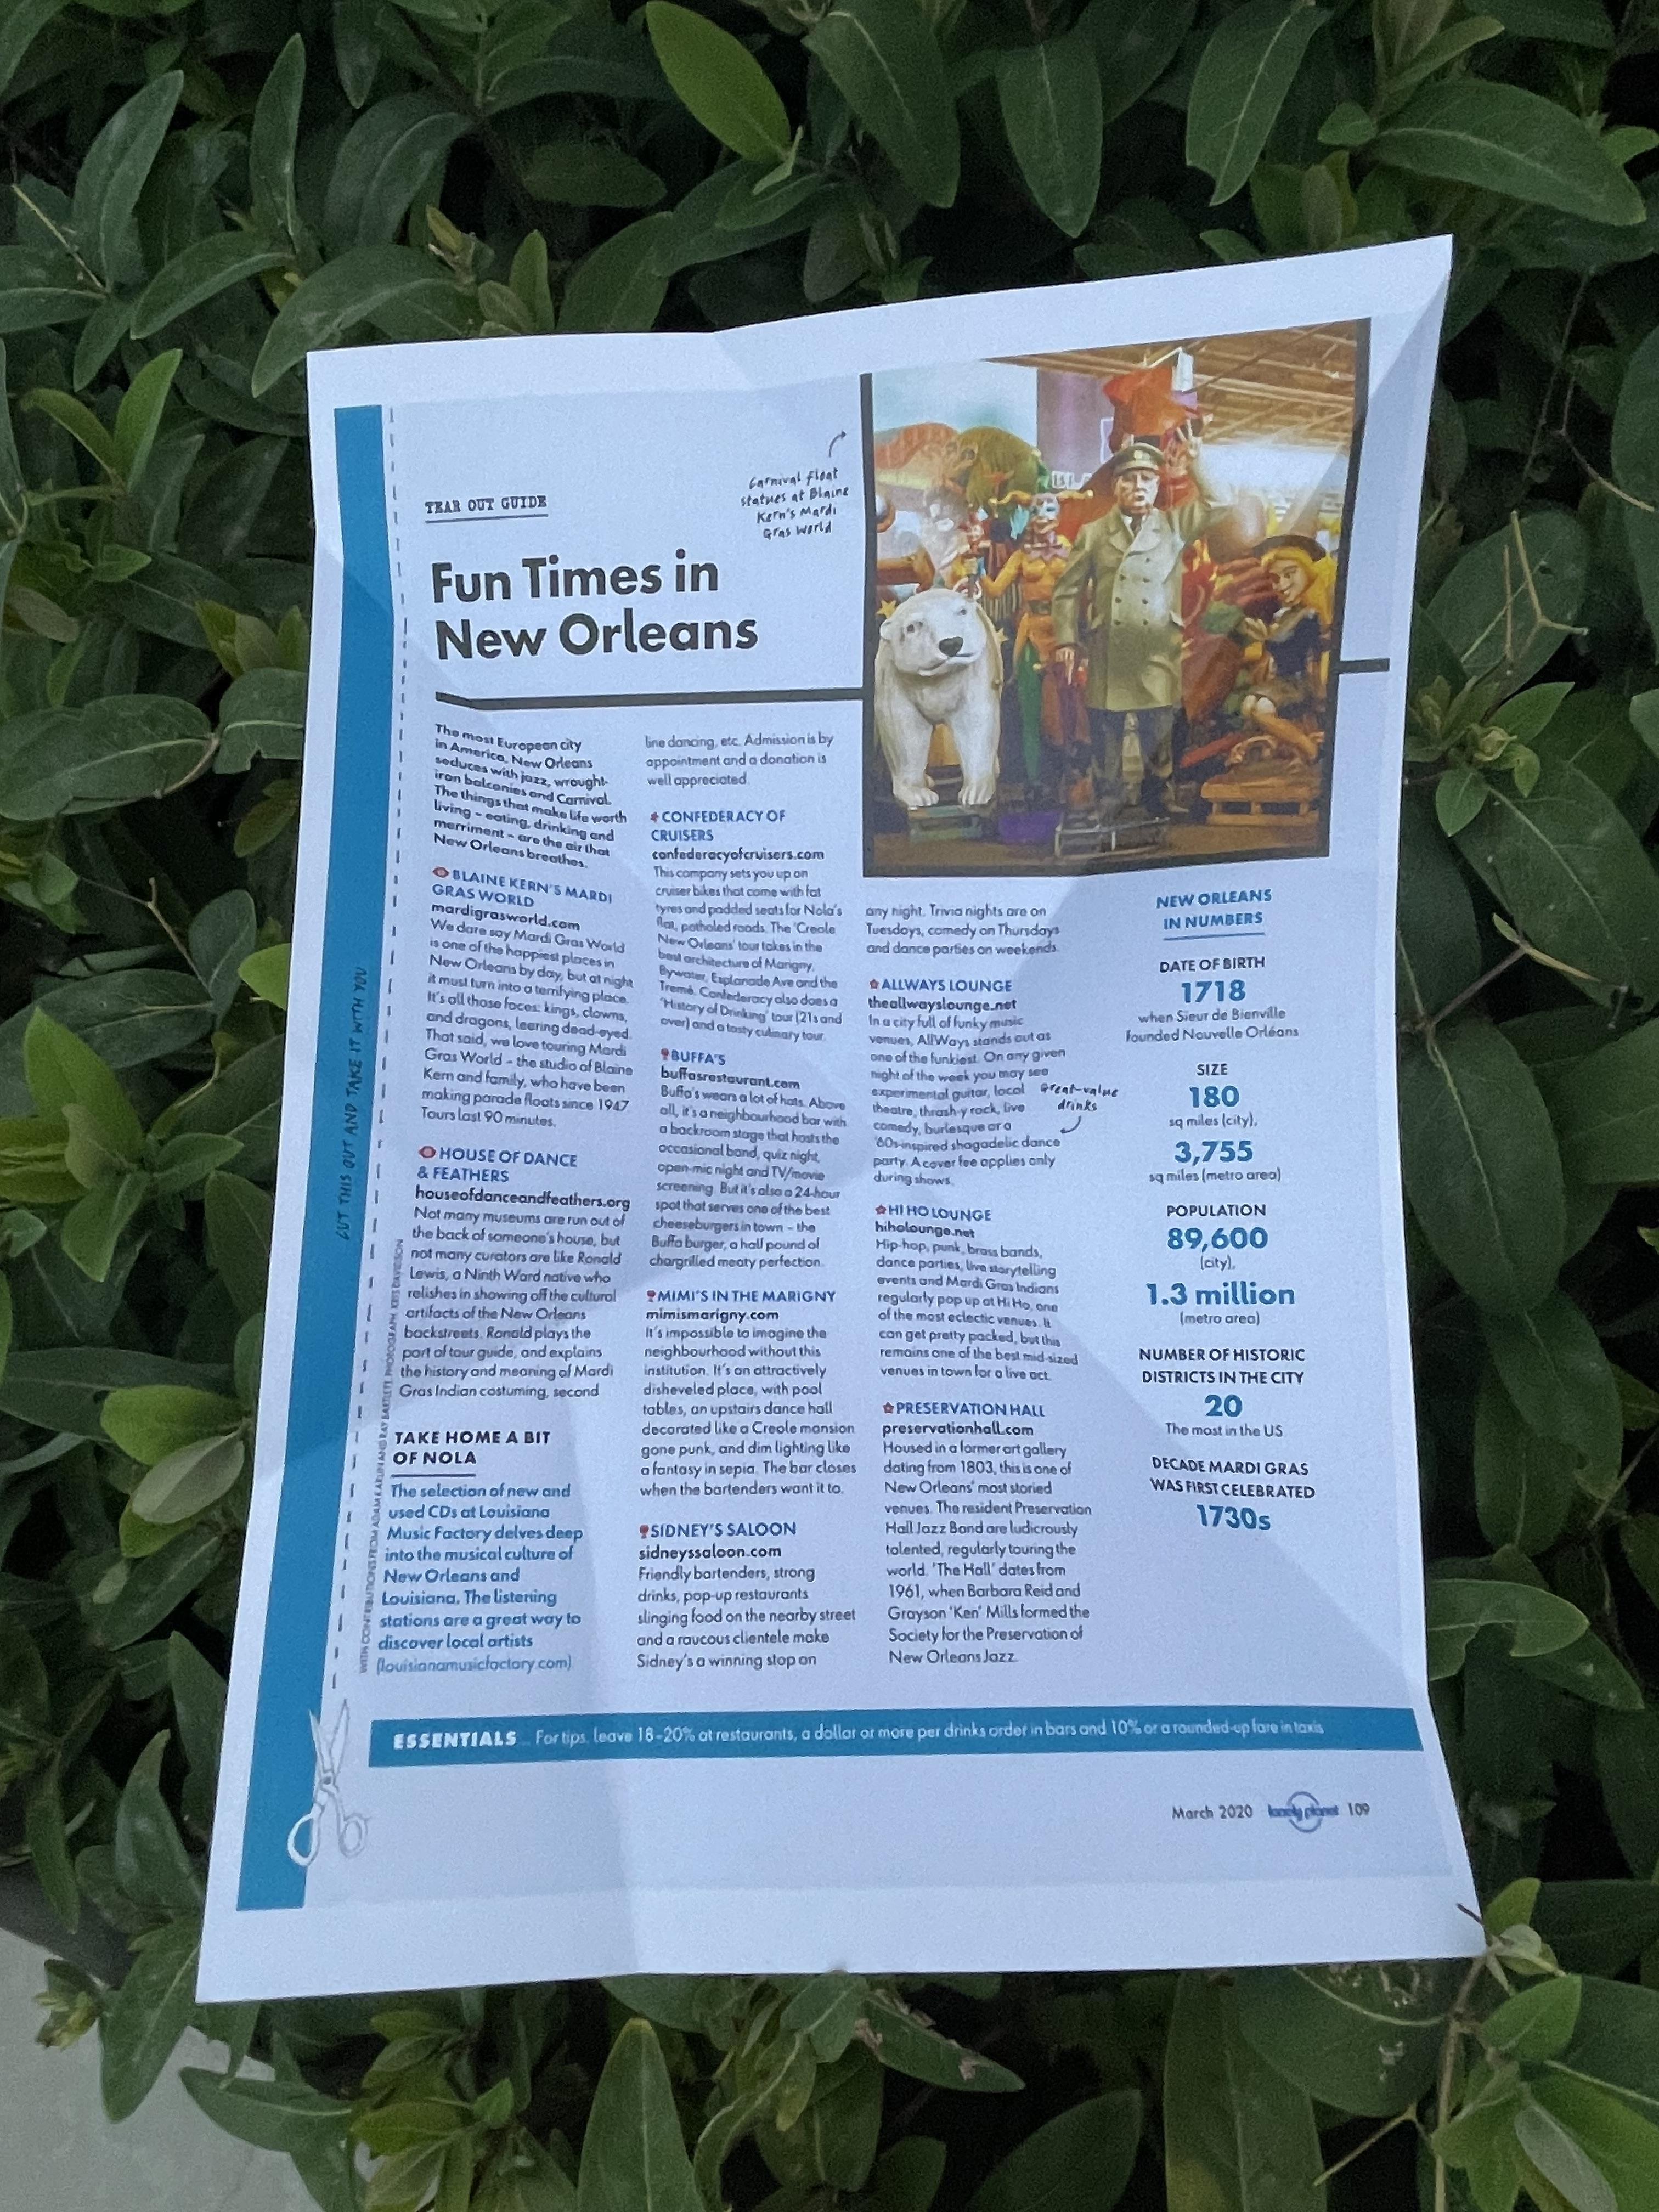paper: (132, 204, 1560, 2087)
